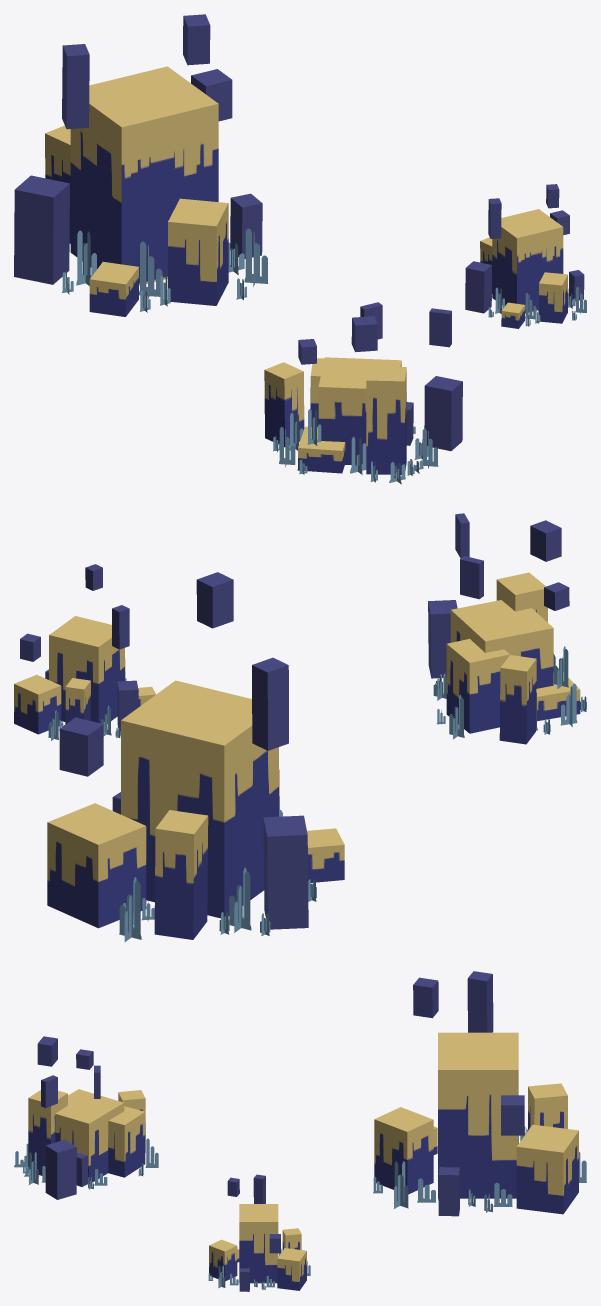
Rendered from grass_cube.glb.
3 views of the same model, one above another, from view 1: azimuth 30°, elevation 25°; view 2: azimuth 150°, elevation 25°; view 3: azimuth 270°, elevation 25° (orthographic). The views are drawn at different scales.
Visible parts, largest first — view 1: Cube.010; view 2: Cube.010; view 3: Cube.010.
Boxes of the visible parts, <box> form: Cube.010: <box>14,14,586,484</box>; Cube.010: <box>14,513,586,941</box>; Cube.010: <box>14,971,586,1291</box>.
Size of the model in its own units: 24.43 by 14.9 by 37.39.
Materials: 4 (1 with a texture image).
